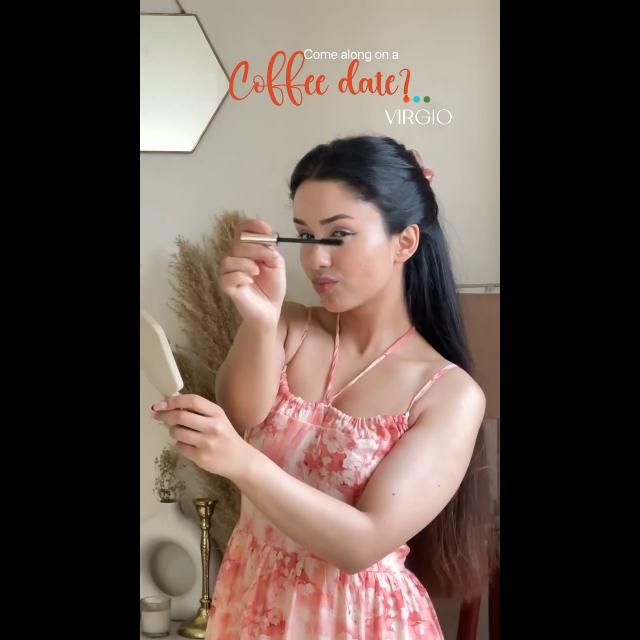dress: (218, 360, 462, 638)
